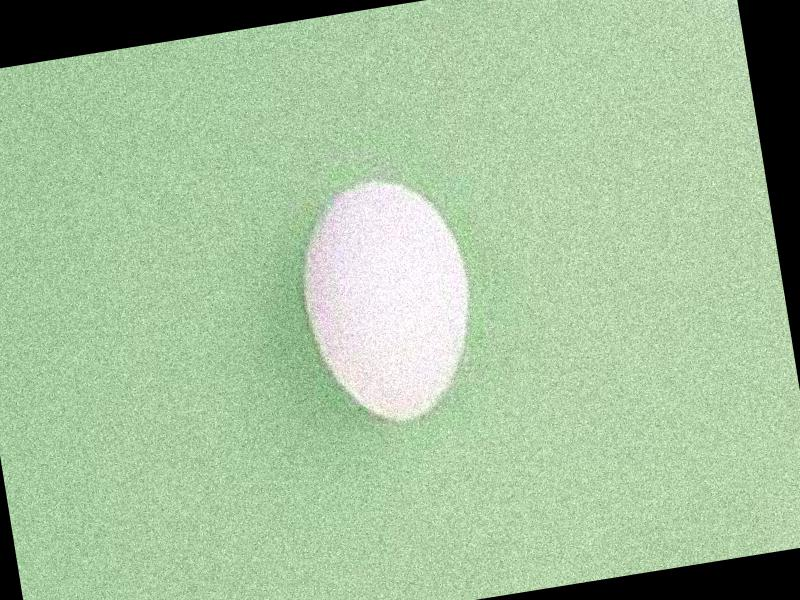Eggs: (285, 166, 487, 433)
